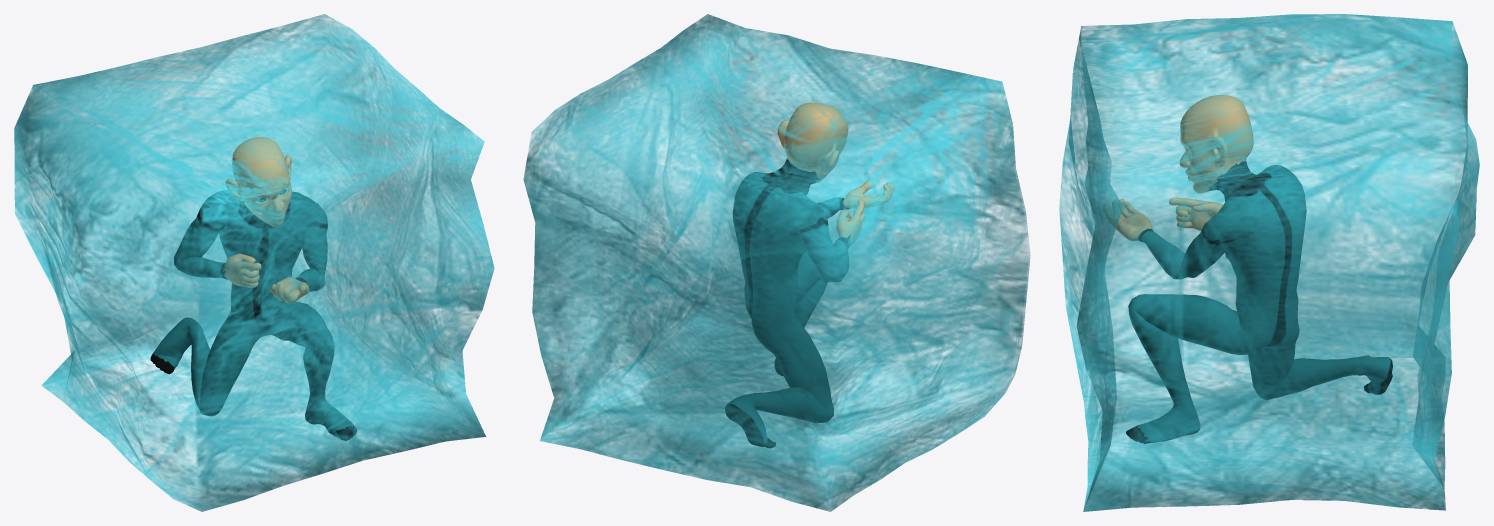
The model's file is ice_cube.glb.
The picture shows the model from 3 angles, left to right: view 1: azimuth 30°, elevation 25°; view 2: azimuth 150°, elevation 25°; view 3: azimuth 270°, elevation 25°; orthographic projection. The views are drawn at different scales.
Parts seen in each view (by area): view 1: crouching; view 2: crouching; view 3: crouching.
Boxes of the visible parts, left/top/right/bottom form: crouching: left=14, top=14, right=494, bottom=511; crouching: left=523, top=14, right=1030, bottom=511; crouching: left=1059, top=14, right=1479, bottom=511.
Size of the model in its own units: 1.25 by 1.05 by 1.14.
Materials: 3 (3 with a texture image).
